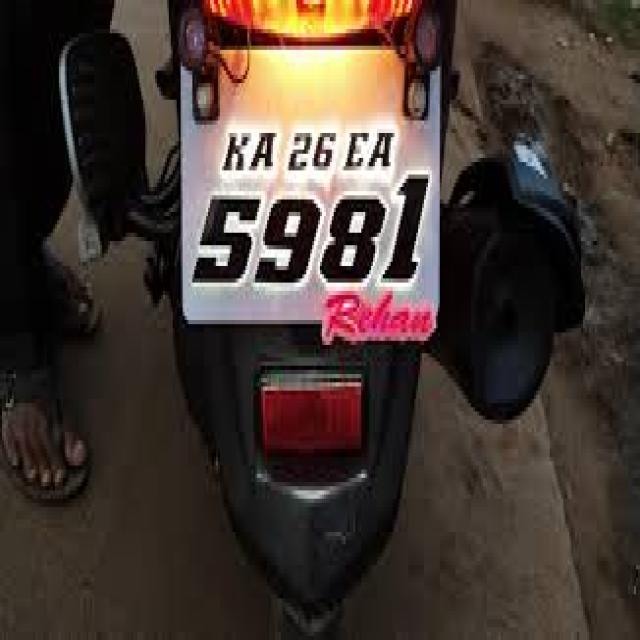license_plate: (174, 25, 443, 345)
